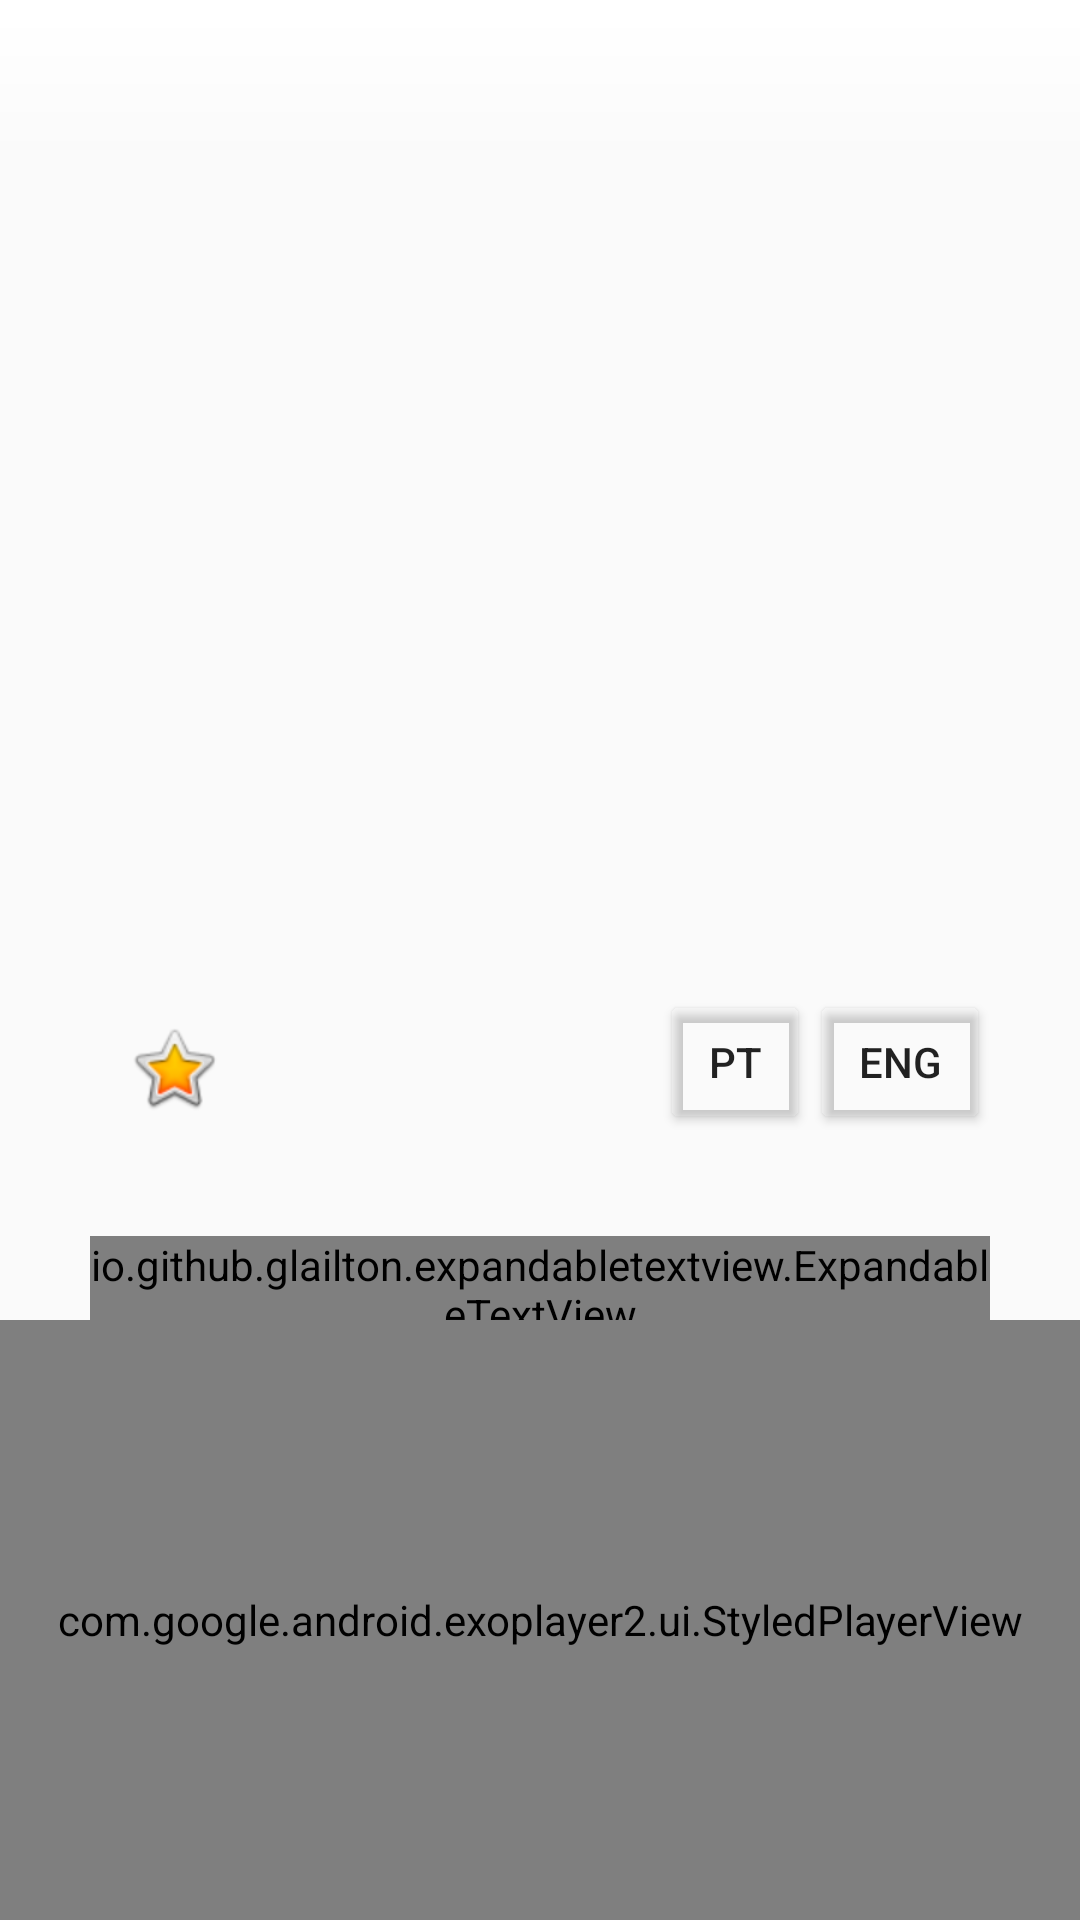

Where to tap for icons on this 1080w x 1920h app screen, as (x,y):
star on: (175,1069)
